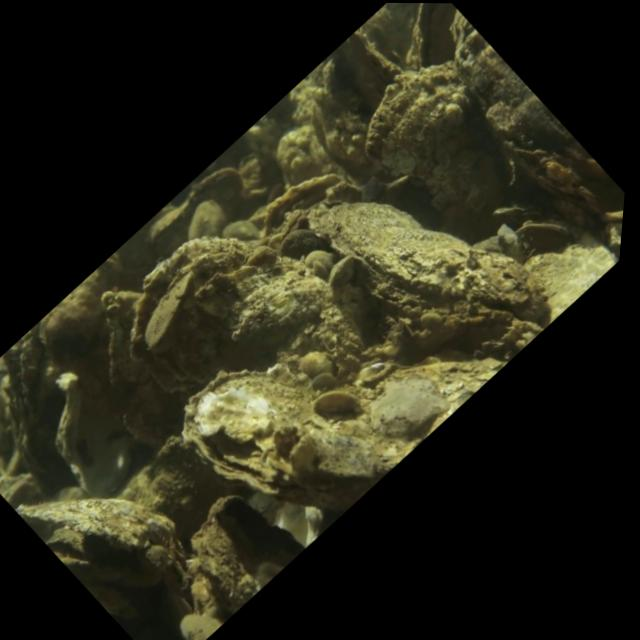Oyster-Closed: (175, 355, 503, 524), (301, 191, 559, 338), (10, 492, 194, 597), (180, 485, 308, 624), (0, 334, 61, 499), (51, 371, 127, 500), (136, 259, 202, 357), (405, 3, 439, 70), (513, 218, 573, 247)
Oyster-Indeterminate: (131, 232, 368, 395), (351, 55, 518, 225), (98, 282, 182, 449), (144, 158, 250, 253), (320, 26, 401, 115)
Oyster-Open: (254, 172, 364, 242)
